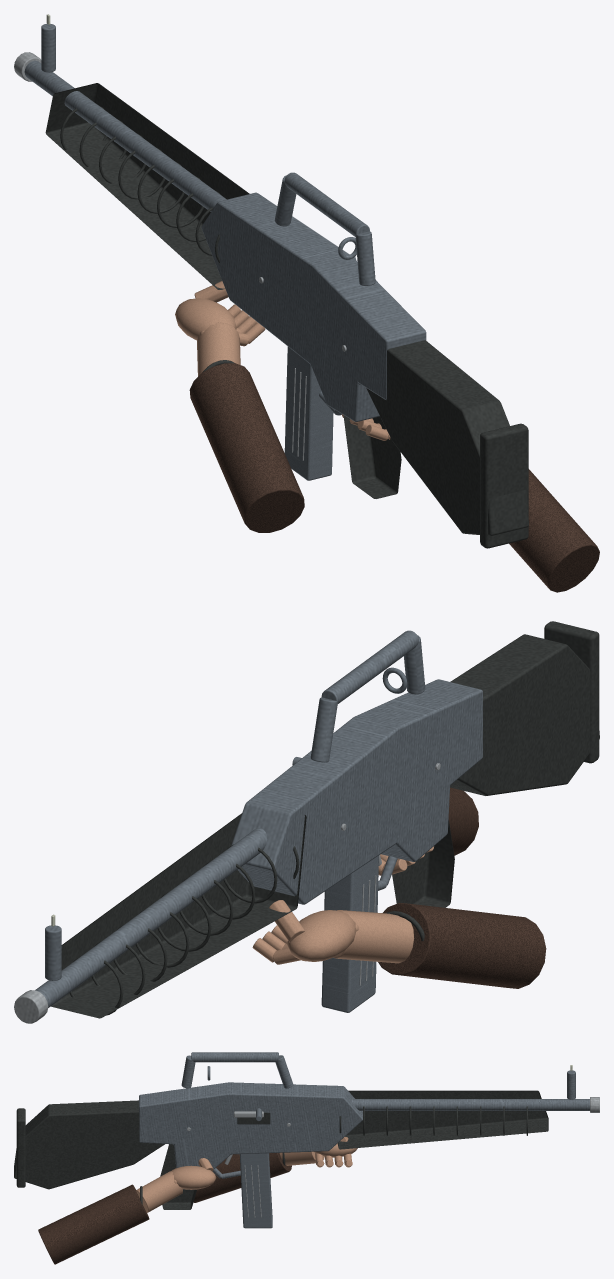
The picture shows the model from 3 angles, top to bottom: view 1: azimuth 30°, elevation 25°; view 2: azimuth 150°, elevation 25°; view 3: azimuth 270°, elevation 25°; orthographic projection. The views are drawn at different scales.
Visible parts, largest first — view 1: m16__BODY, m16__HAND_L, m16__HAND_R, m16__MAGAZINE; view 2: m16__BODY, m16__HAND_L, m16__MAGAZINE, m16__HAND_R; view 3: m16__BODY, m16__HAND_R, m16__HAND_L, m16__MAGAZINE.
Boxes of the visible parts, left/top/right/bottom form: m16__BODY: left=14, top=14, right=528, bottom=548; m16__HAND_L: left=175, top=281, right=304, bottom=532; m16__HAND_R: left=342, top=414, right=599, bottom=592; m16__MAGAZINE: left=284, top=346, right=333, bottom=480; m16__BODY: left=14, top=621, right=599, bottom=1023; m16__HAND_L: left=252, top=900, right=546, bottom=988; m16__MAGAZINE: left=321, top=855, right=378, bottom=1012; m16__HAND_R: left=378, top=787, right=478, bottom=875; m16__BODY: left=14, top=1052, right=599, bottom=1209; m16__HAND_R: left=38, top=1158, right=216, bottom=1264; m16__HAND_L: left=193, top=1137, right=357, bottom=1202; m16__MAGAZINE: left=239, top=1153, right=272, bottom=1228.
Size of the model in its own units: 0.3294 by 0.4051 by 1.17.
6 materials, 6 textured.
